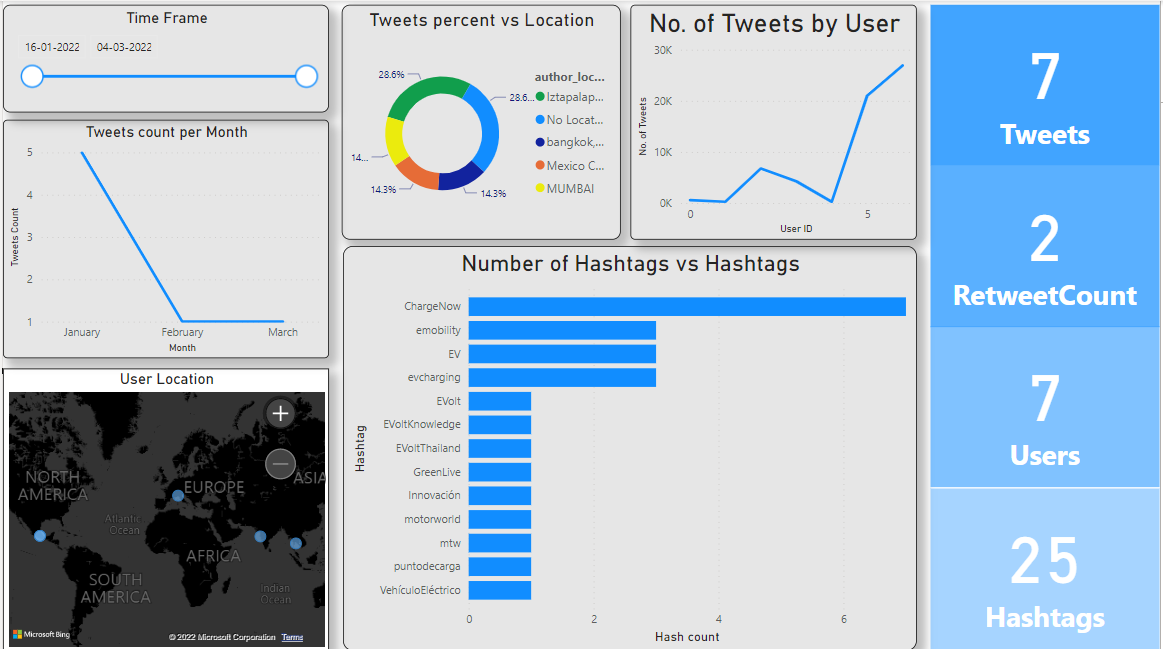

What the dashboard file says about the page in this screenshot:
{"tool":"powerbi","page":{"name":"Dashboard","canvas":[1280,720],"ordinal":0},"visuals":[{"type":"donutChart","title":"Tweets percent vs Location","fields":{"Category":["ChargeNow_20220310-003556.author_location"],"Y":["CountNonNull(ChargeNow_20220310-003556.tweet_id)"]},"box":[375,4.2,308.6,260.2],"z":0},{"type":"lineChart","title":"Tweets count per Month","fields":{"Category":["ChargeNow_20220310-003556.created_at.Variation.Date Hierarchy.Month"],"Y":["CountNonNull(ChargeNow_20220310-003556.tweet_id)"]},"box":[0,132,360.6,264],"z":1000},{"type":"clusteredBarChart","title":"Number of Hashtags vs  Hashtags","fields":{"Category":["Hashtag_20220310-003556.hash"],"Y":["CountNonNull(Hashtag_20220310-003556.hash)"]},"box":[376.4,271.2,635.2,448.3],"z":2000},{"type":"slicer","title":"Time Frame","fields":{"Values":["ChargeNow_20220310-003556.created_at"]},"box":[0,4.2,361.2,119],"z":3000},{"type":"card","fields":{"Values":["CountNonNull(ChargeNow_20220310-003556.tweet_id)"]},"box":[1026.8,4.2,253.2,178.5],"z":4000},{"type":"card","fields":{"Values":["ChargeNow_20220310-003556.RetweetCount"]},"box":[1026.8,182.7,253.2,178.5],"z":5000},{"type":"card","fields":{"Values":["CountNonNull(ChargeNow_20220310-003556.author_id)"]},"box":[1026.8,359.8,253.2,178.5],"z":6000},{"type":"card","fields":{"Values":["CountNonNull(Hashtag_20220310-003556.hash)"]},"box":[1026.8,539.7,253.2,178.5],"z":7000},{"type":"lineChart","title":"No. of Tweets by User","fields":{"Category":["ChargeNow_20220310-003556.Column1"],"Y":["Sum(ChargeNow_20220310-003556.author_tweets)"]},"box":[694.7,4.2,316.9,260.2],"z":8000},{"type":"map","fields":{"Category":["ChargeNow_20220310-003556.author_location"]},"box":[0,406.8,361.2,312.7],"z":9000}]}

Visuals, with their boxes in screenshot pixels (x1, y1, x2, y2), scaled from the page's 1280x720 canvas onto the 1163x649 screenshot:
"Tweets percent vs Location" donutChart: [341,4,621,238]
"Tweets count per Month" lineChart: [0,119,328,357]
"Number of Hashtags vs  Hashtags" clusteredBarChart: [342,244,919,648]
"Time Frame" slicer: [0,4,328,111]
card - CountNonNull(ChargeNow_20220310-003556.tweet_id): [933,4,1162,165]
card - ChargeNow_20220310-003556.RetweetCount: [933,165,1162,326]
card - CountNonNull(ChargeNow_20220310-003556.author_id): [933,324,1162,485]
card - CountNonNull(Hashtag_20220310-003556.hash): [933,486,1162,647]
"No. of Tweets by User" lineChart: [631,4,919,238]
map - ChargeNow_20220310-003556.author_location: [0,367,328,648]
